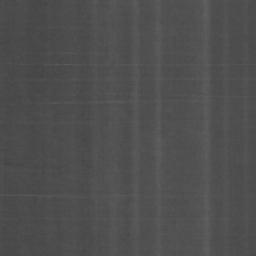Waist folding: (0, 193, 83, 199), (52, 99, 123, 105), (22, 62, 73, 67), (207, 63, 256, 67), (40, 77, 79, 82)
